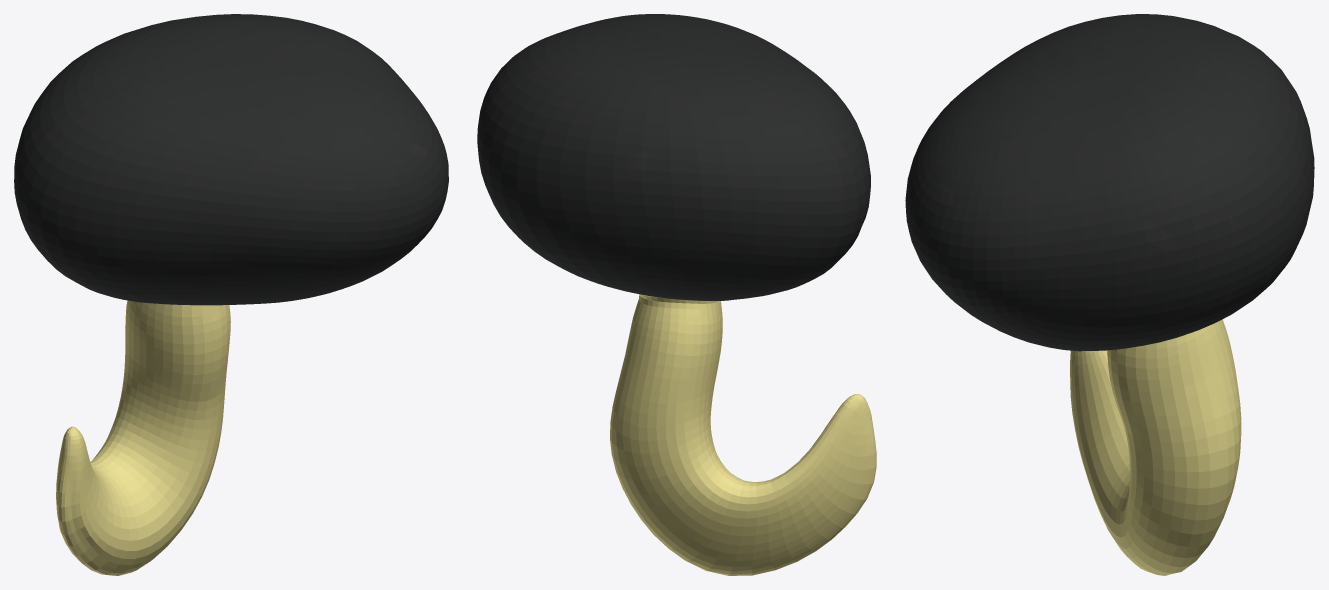
The model's file is GG_Character_HookHandAccess.fbx.
3 renders of one model, left to right at view 1: azimuth 30°, elevation 25°; view 2: azimuth 150°, elevation 25°; view 3: azimuth 270°, elevation 25°, orthographic. The views are drawn at different scales.
Visible parts, largest first — view 1: Hook1; view 2: Hook1; view 3: Hook1.
Part boxes in pixels (box(x1,y1,x2,y2)): Hook1: box(14, 14, 448, 575); Hook1: box(477, 14, 876, 575); Hook1: box(905, 14, 1314, 575).
Size of the model in its own units: 0.5187 by 0.6792 by 0.4572.
